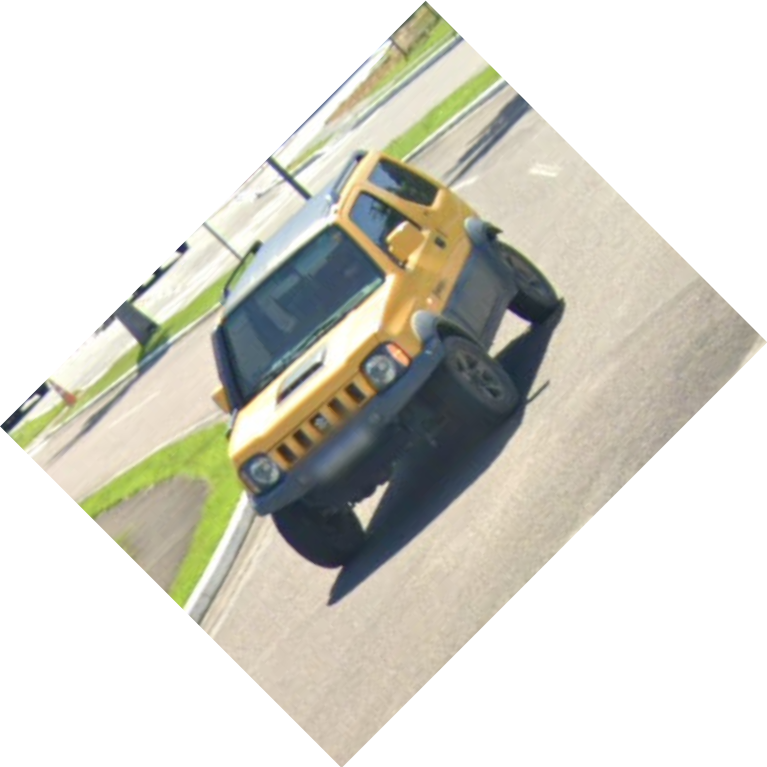car: (208, 147, 564, 577)
